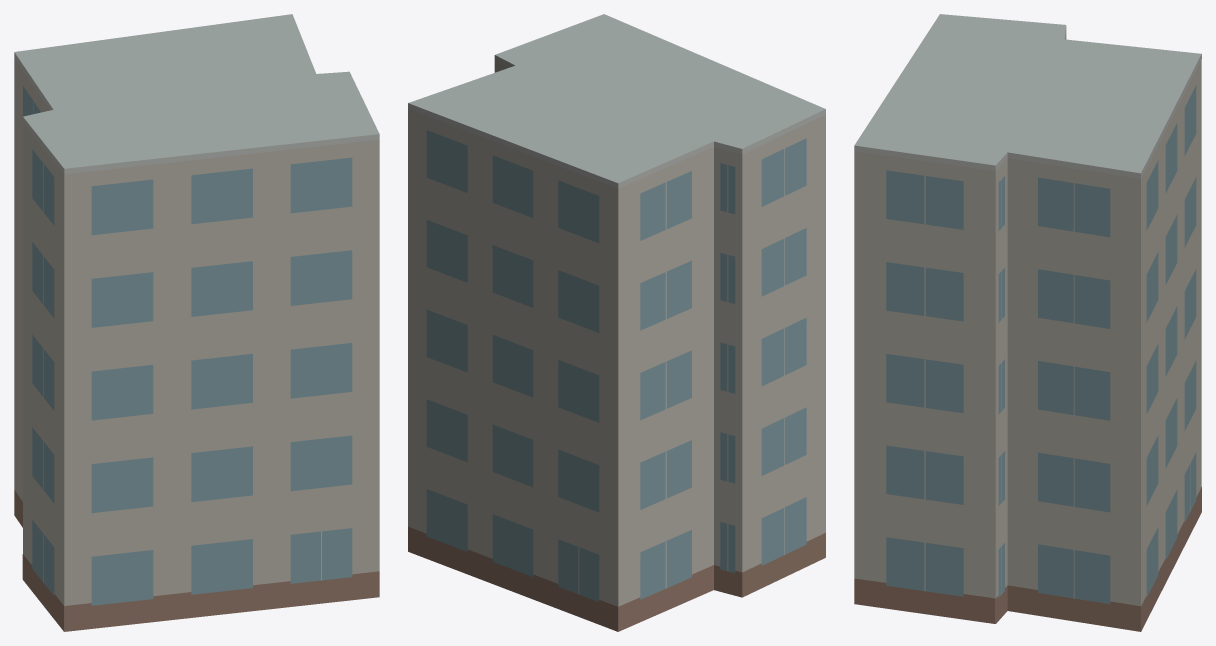
File: survey-upis-32872333.glb
3 views of the same model, side by side, from view 1: azimuth 30°, elevation 25°; view 2: azimuth 150°, elevation 25°; view 3: azimuth 270°, elevation 25° (orthographic). The views are drawn at different scales.
Visible parts, largest first — view 1: survey-upis-32872333.tmp; view 2: survey-upis-32872333.tmp; view 3: survey-upis-32872333.tmp.
Part boxes in pixels (bbox=[...]): survey-upis-32872333.tmp: bbox=[14, 14, 379, 631]; survey-upis-32872333.tmp: bbox=[408, 14, 825, 631]; survey-upis-32872333.tmp: bbox=[854, 14, 1201, 631].
Size of the model in its own units: 15.1 by 20.25 by 13.92.
